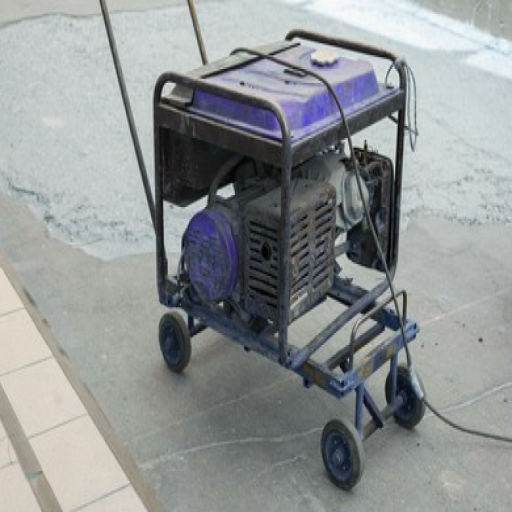portable_generator: (152, 28, 408, 371)
